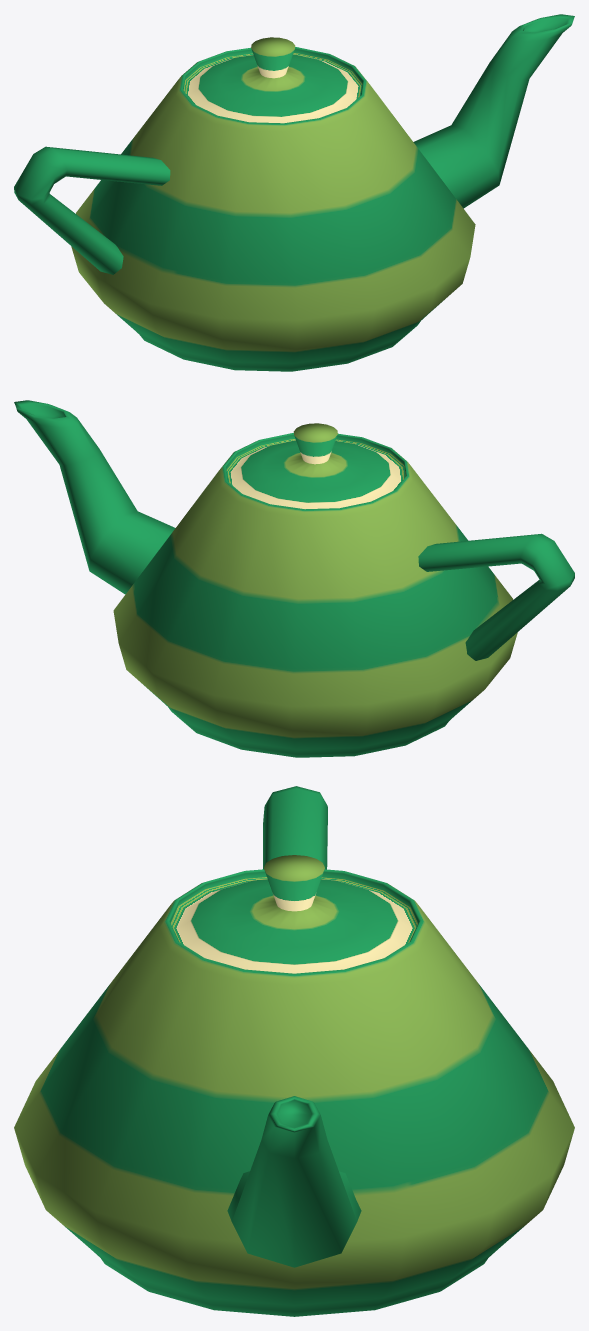
The model's file is M_teapot.fbx.
3 views of the same model, one above another, from view 1: azimuth 30°, elevation 25°; view 2: azimuth 150°, elevation 25°; view 3: azimuth 270°, elevation 25° (orthographic). The views are drawn at different scales.
Visible parts, largest first — view 1: teapot; view 2: teapot; view 3: teapot.
Part boxes in pixels (x1,y1,x2,y2): teapot: [14, 14, 574, 371]; teapot: [14, 400, 574, 757]; teapot: [14, 786, 574, 1316].
Size of the model in its own units: 111 by 51.88 by 70.33.
